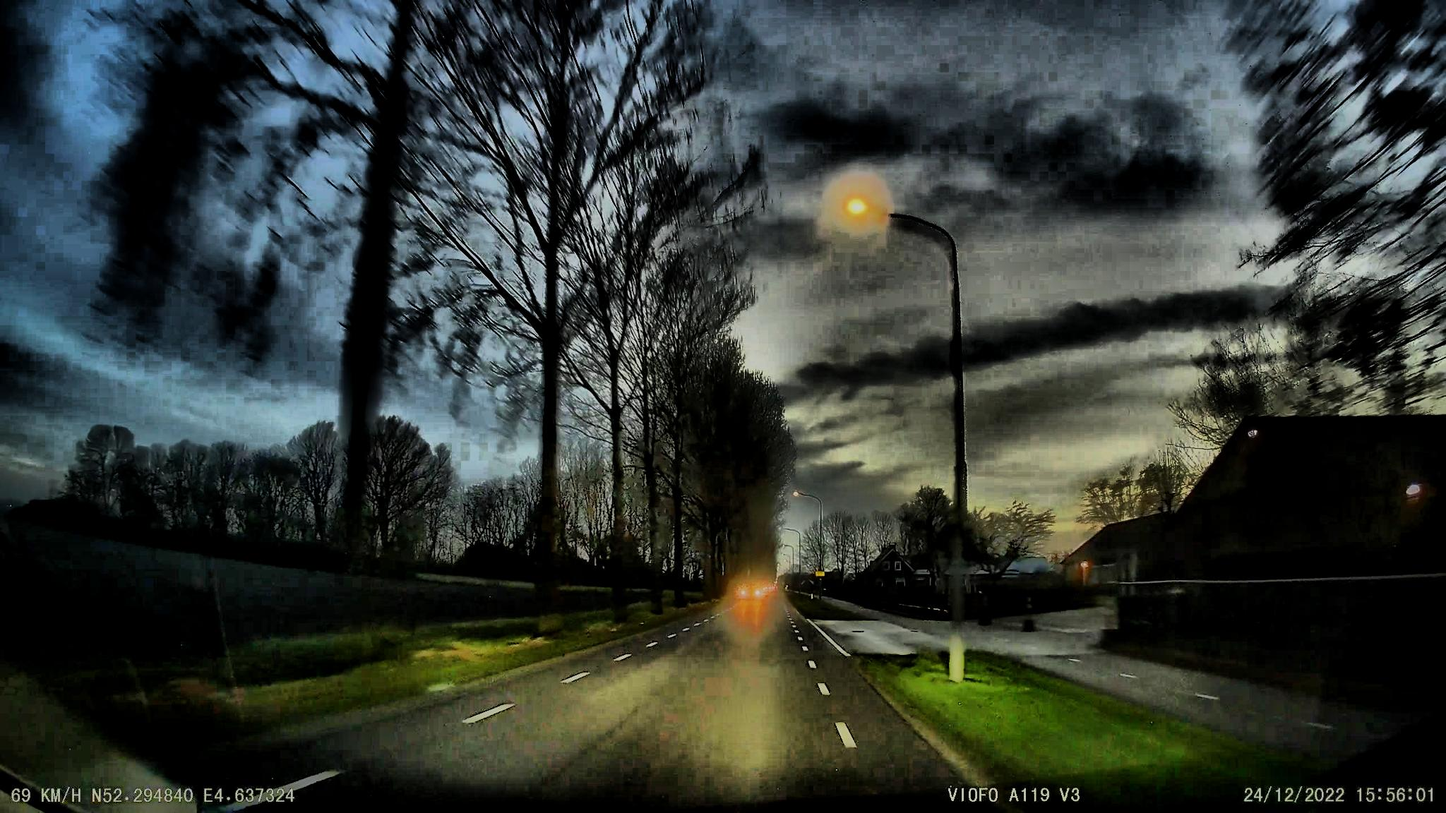Roads: (284, 605, 973, 804)
